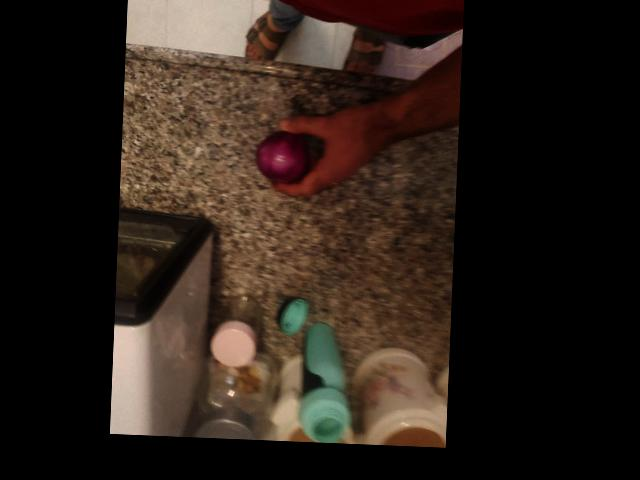onion: (133, 239, 197, 302)
